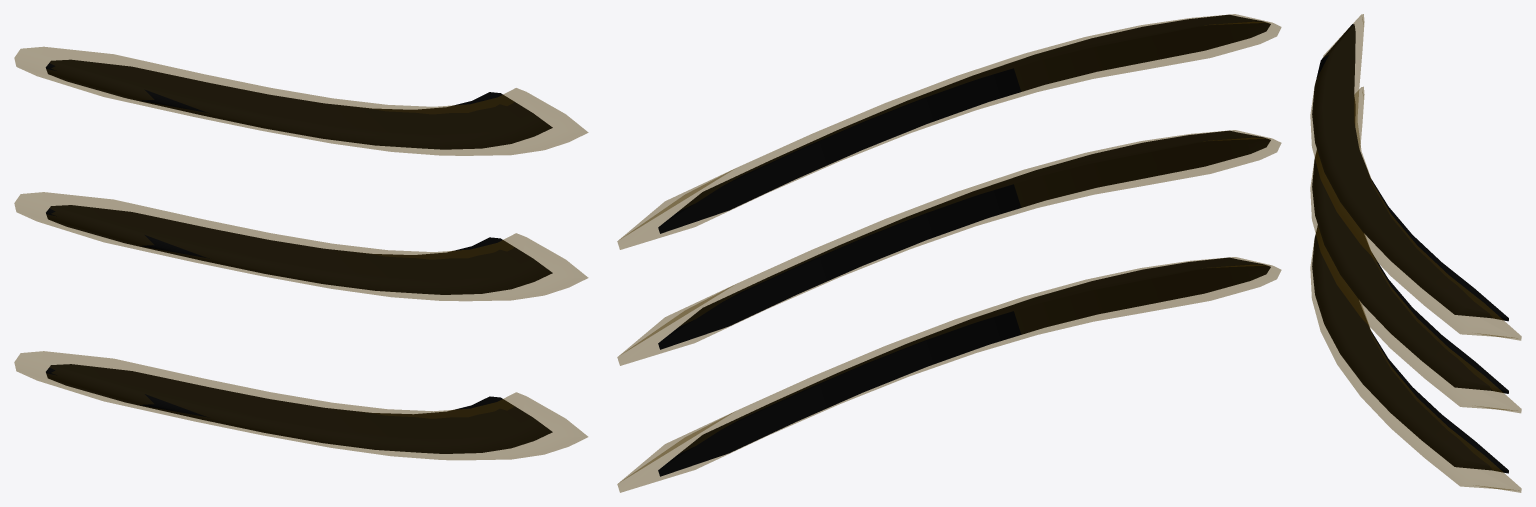
File: FX_sword-3.fbx
The picture shows the model from 3 angles, left to right: view 1: azimuth 30°, elevation 25°; view 2: azimuth 150°, elevation 25°; view 3: azimuth 270°, elevation 25°; orthographic projection. The views are drawn at different scales.
Parts seen in each view (by area): view 1: FX_sword; view 2: FX_sword; view 3: FX_sword.
Boxes of the visible parts, x1,y1,x2,y2 form: FX_sword: [14, 46, 588, 460]; FX_sword: [617, 14, 1281, 492]; FX_sword: [1310, 14, 1521, 492].
Size of the model in its own units: 93.75 by 84.57 by 50.98.
